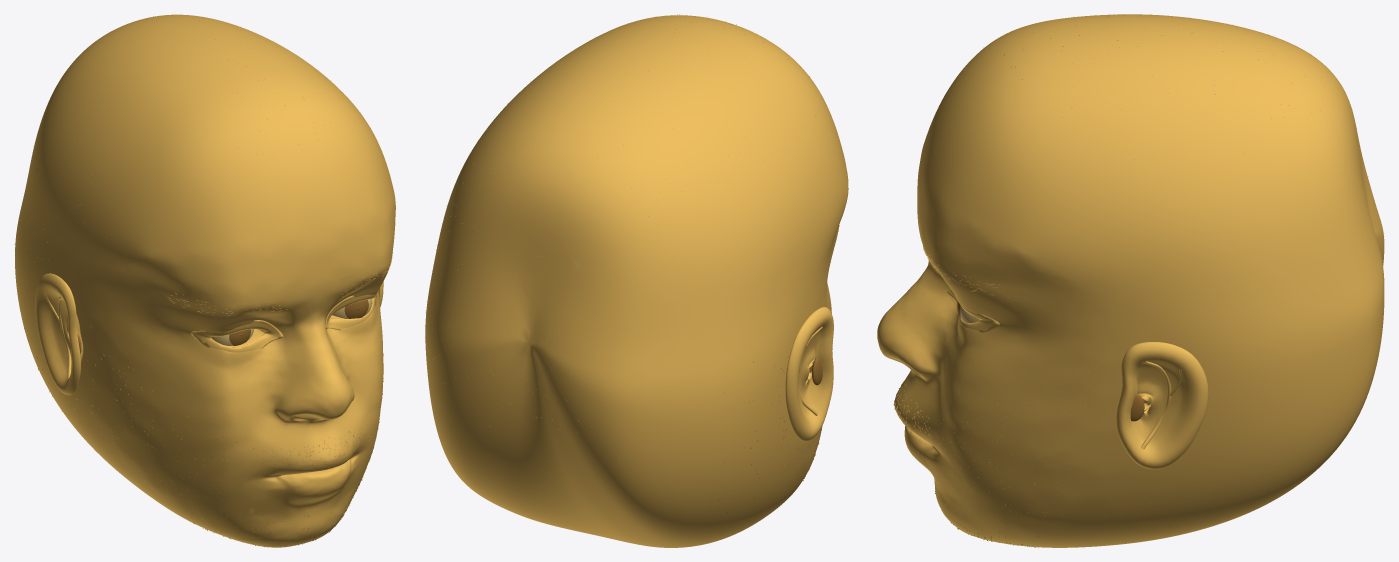
File: sah-gold-head.glb
3 views of the same model, side by side, from view 1: azimuth 30°, elevation 25°; view 2: azimuth 150°, elevation 25°; view 3: azimuth 270°, elevation 25° (orthographic). The views are drawn at different scales.
Parts seen in each view (by area): view 1: Gold_Cast.001, Gold_Relief.001, Gold_Engraved.001; view 2: Gold_Cast.001; view 3: Gold_Cast.001, Gold_Relief.001.
Part boxes in pixels (left/top/right/bottom): Gold_Cast.001: left=15, top=14, right=395, bottom=547; Gold_Relief.001: left=14, top=14, right=392, bottom=547; Gold_Engraved.001: left=70, top=299, right=368, bottom=353; Gold_Cast.001: left=425, top=15, right=848, bottom=547; Gold_Cast.001: left=877, top=14, right=1384, bottom=547; Gold_Relief.001: left=893, top=14, right=1381, bottom=547.
Bounding box in the file's own units: 0.1775 × 0.2367 × 0.219.
